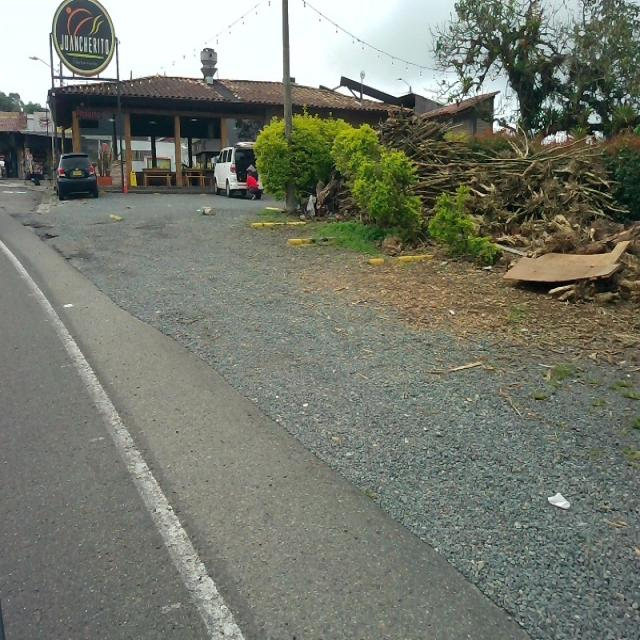DITCH: (1, 1, 638, 638), (14, 183, 639, 638)
